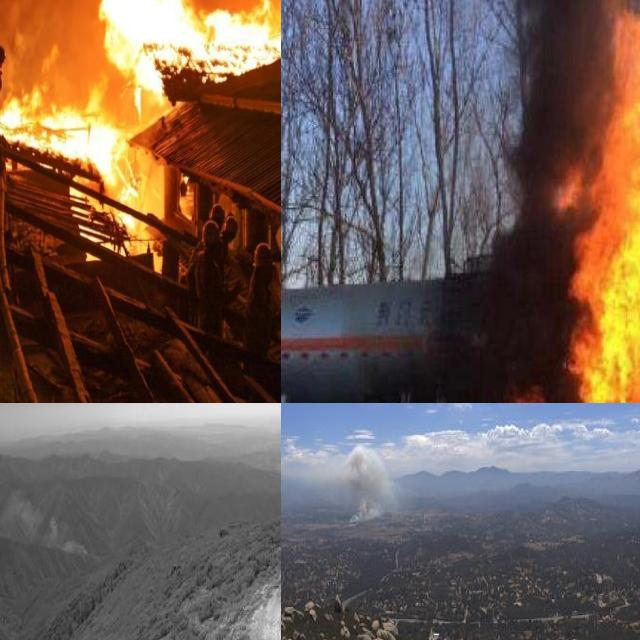fire: (0, 0, 281, 239), (510, 0, 640, 403)
smoke: (496, 0, 617, 391), (0, 475, 90, 557), (344, 442, 399, 528)
